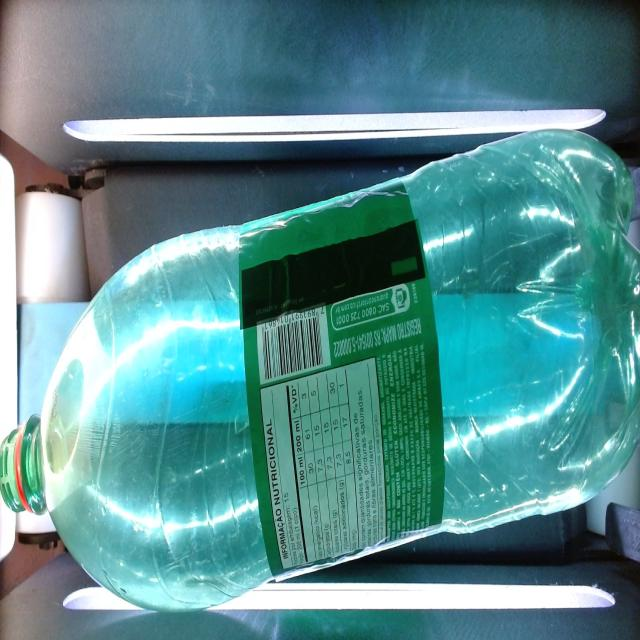bottom: (518, 116, 640, 516)
code: (253, 308, 339, 374)
no_cap: (0, 405, 51, 538)
